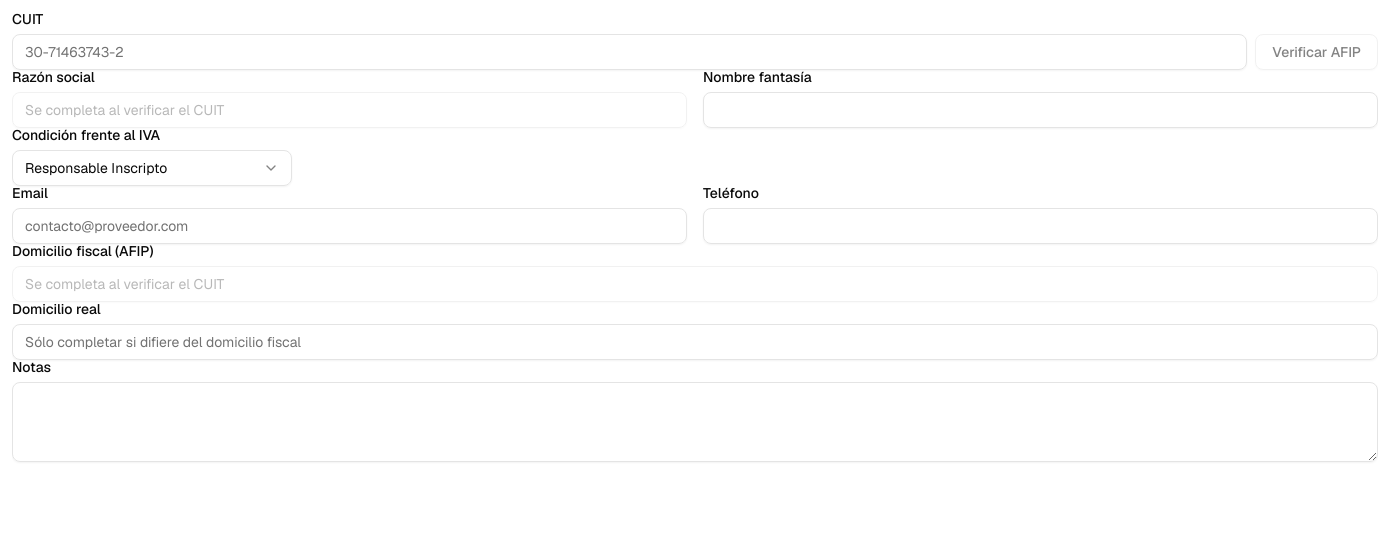
Test: CounterpartyIdentityFields › links to the record that already uses the CUIT, without asking AFIP
The width and height of the screenshot is (1390, 533).
Type "30714637432" into the field labelled "CUIT" at (630, 52), box [12,34,1247,70]
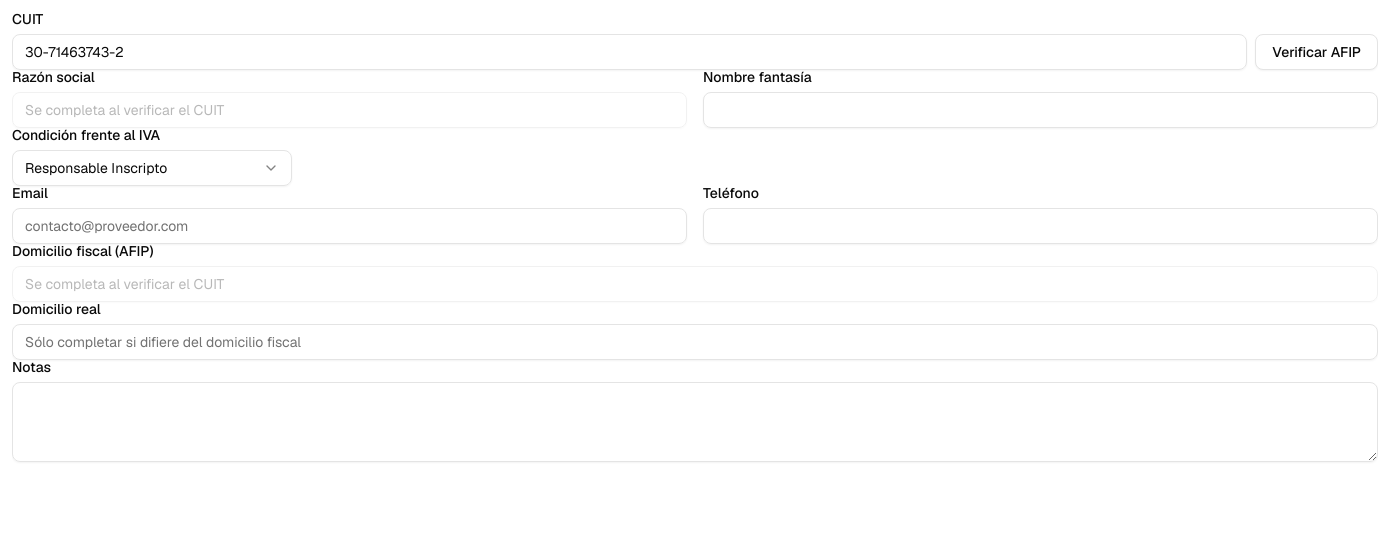
Click the button "Verificar AFIP" at (1317, 52), box [1255,34,1378,70]
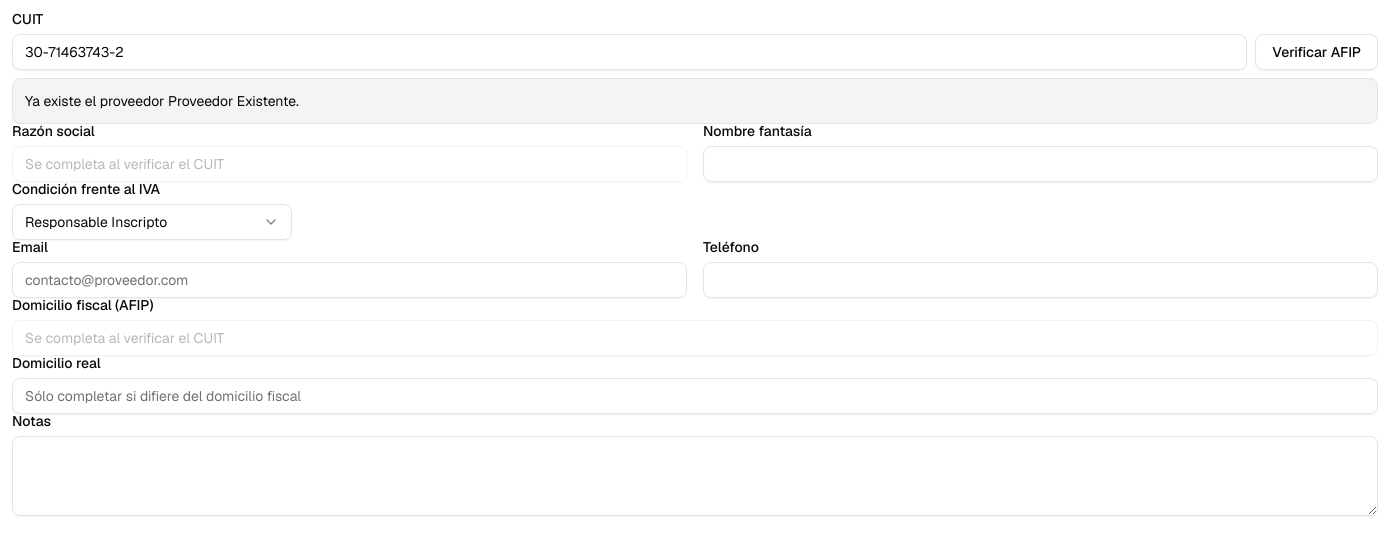
expect the text "Ya existe el proveedor Proveedor Existente ." is shown: met, box [12,78,1378,124]
